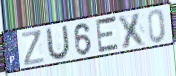0: (146, 8, 167, 45)
6: (73, 21, 93, 57)
E: (95, 14, 121, 55)
U: (45, 24, 71, 63)
X: (117, 10, 149, 50)
Z: (20, 29, 46, 68)
